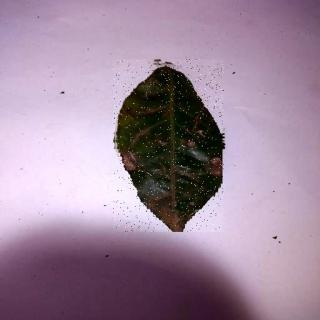Anthracnose: (115, 60, 225, 233)
